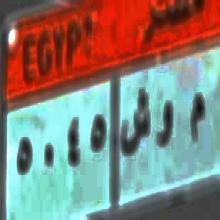0: (40, 129, 55, 188)
4: (64, 112, 80, 172)
5: (88, 109, 108, 162), (14, 127, 32, 183)
meem: (187, 92, 208, 153)
sheen: (119, 88, 152, 160)
waw: (155, 98, 177, 158)
